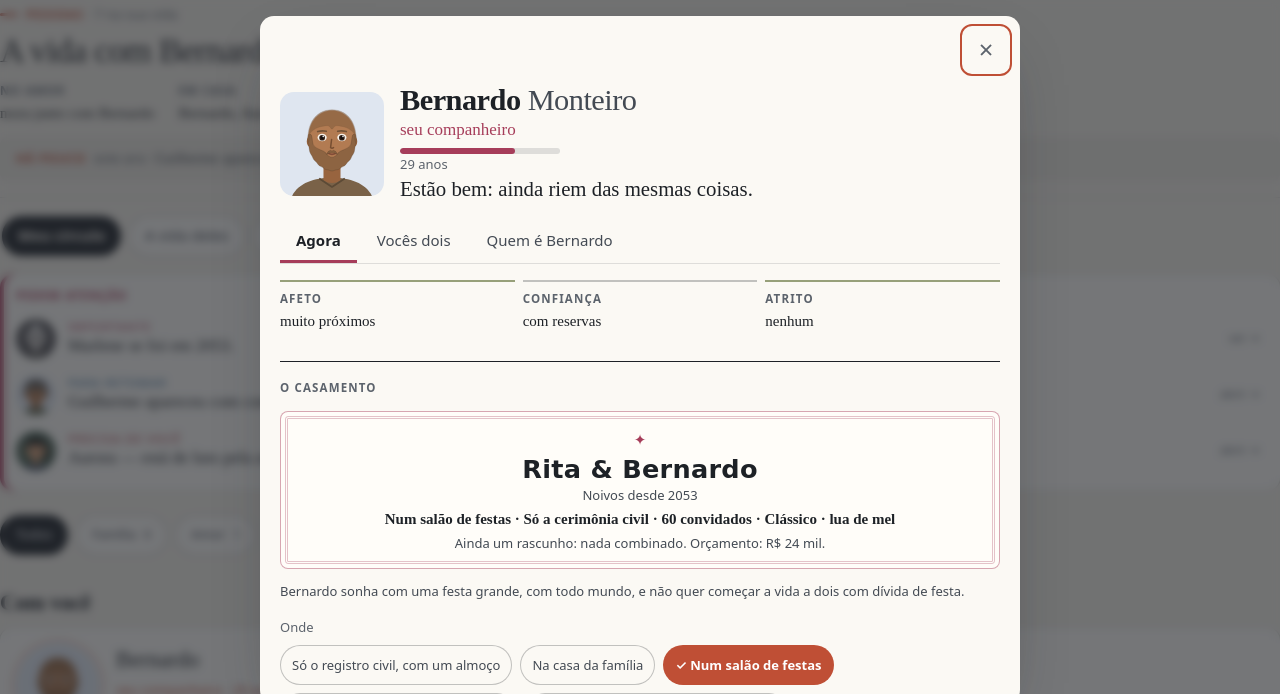
REL-16 · o planejamento do casamento na ficha › noivos: a ficha mostra o plano com o preço e a preferência; combinar e casar passam pelo motor
Check: the element named "O planejamento do casamento" shows "sonha com", box [280,582,964,600]
Step 1. Click the radio button labelled "Num salão de festas" → (748, 666), box [663,646,834,686]
(page scrolled)
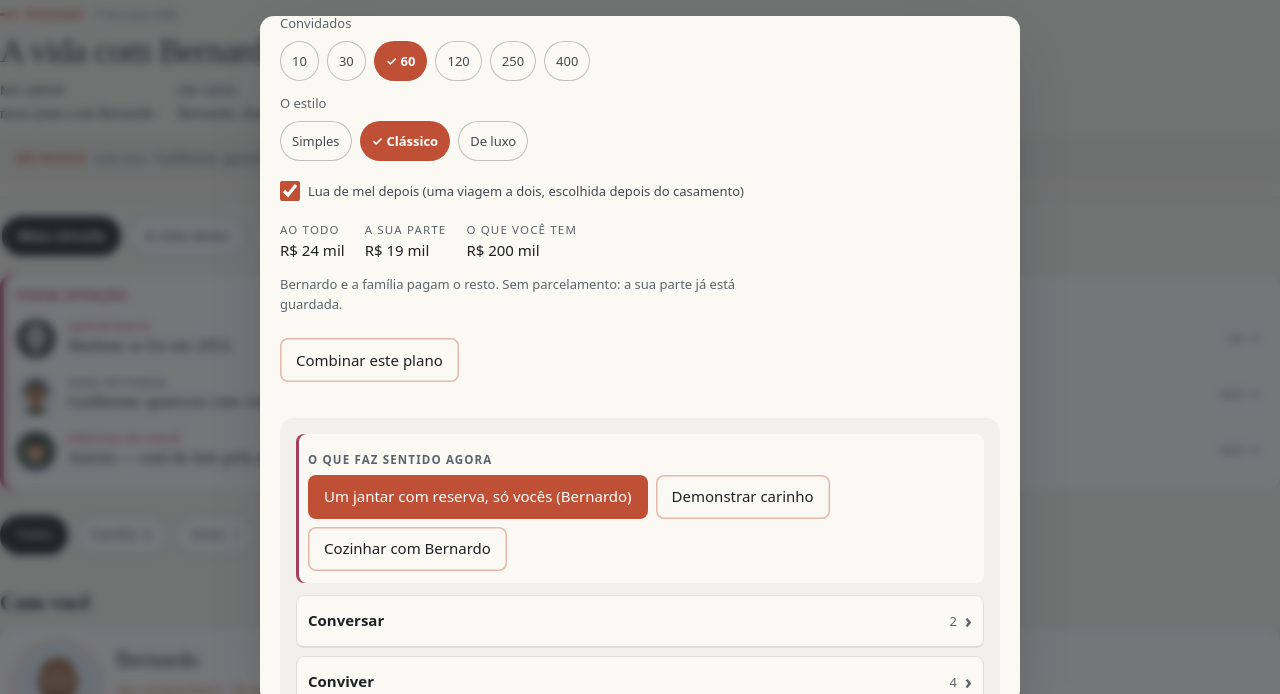
Step 2. Click the button "Combinar este plano" → (369, 360), box [280,338,459,382]
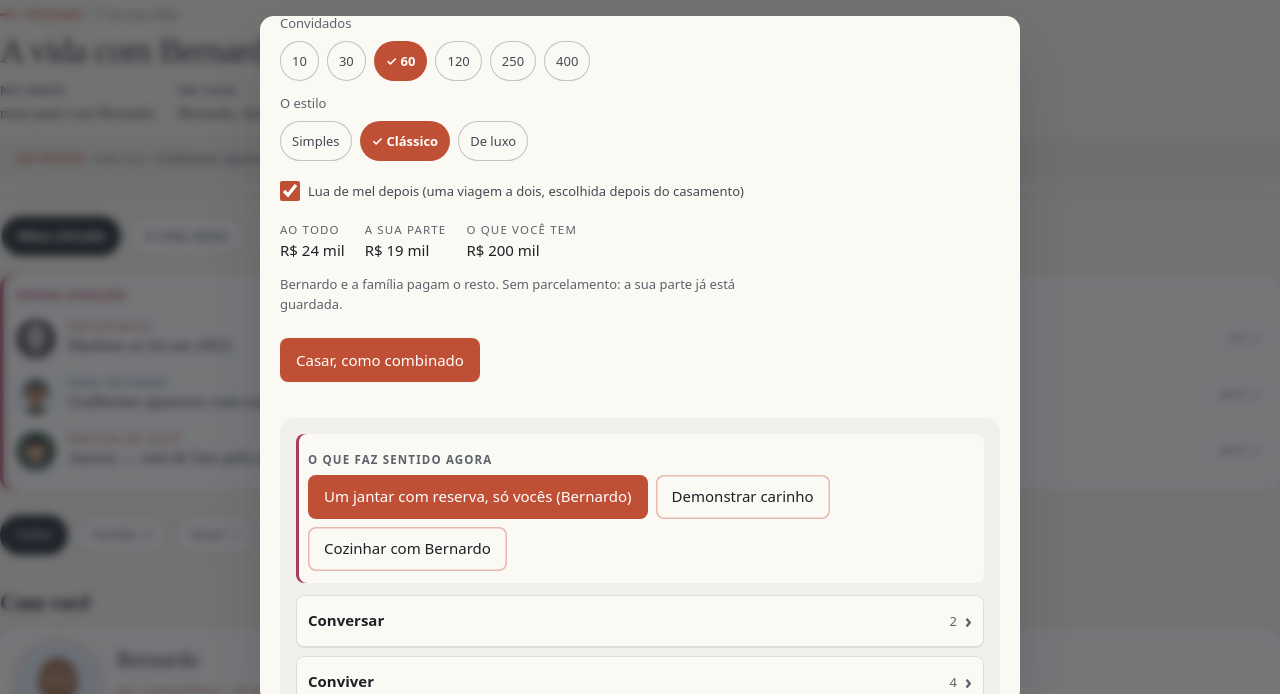
Step 3. Click the button "Casar, como combinado" → (380, 360), box [280,338,480,382]
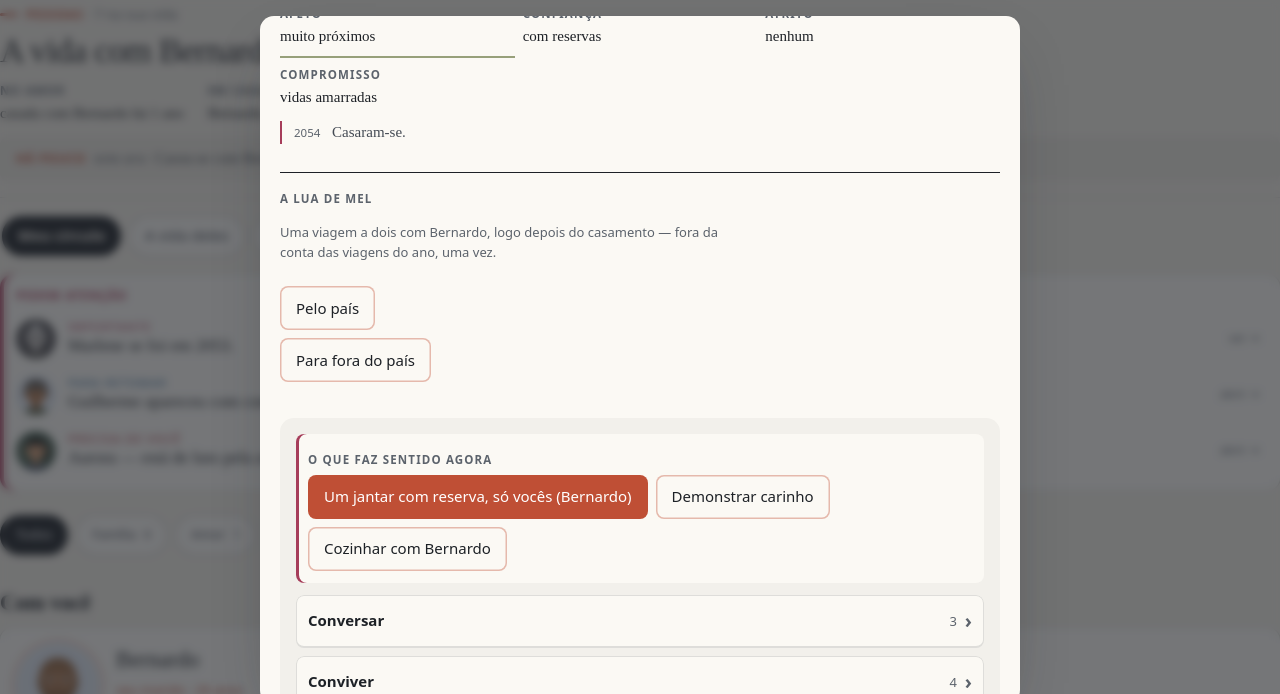
Check: the element "A lua de mel" is shown, box [280,172,1000,382]
